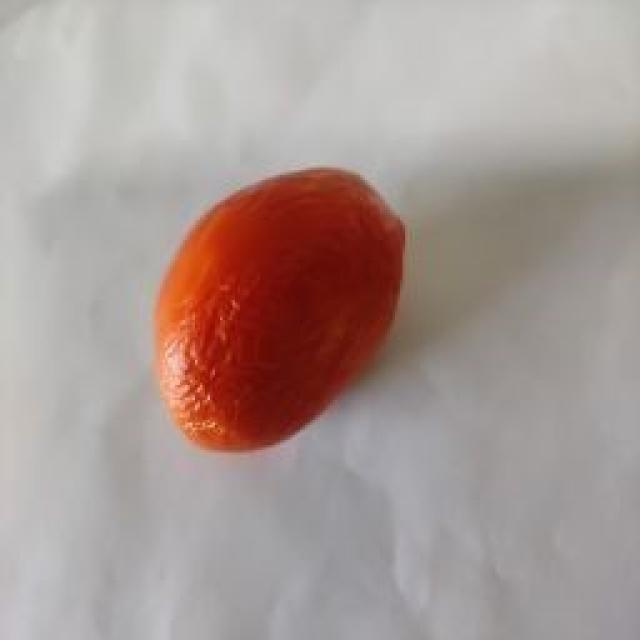overripe: (148, 161, 409, 455)
